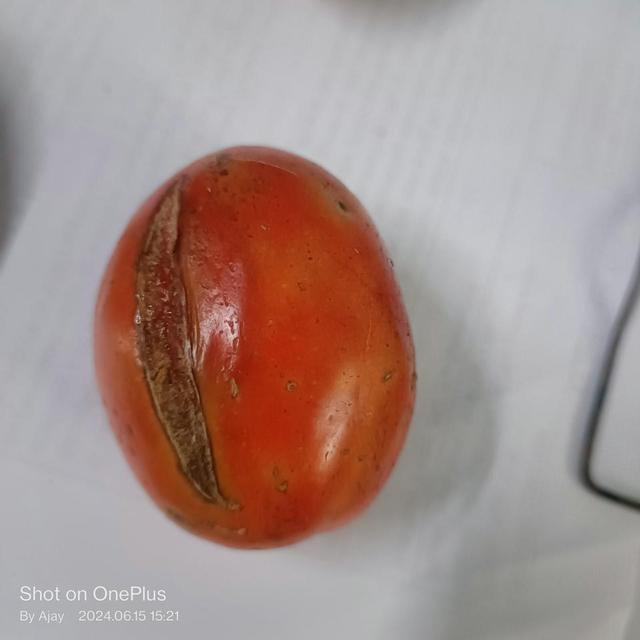Cracking Fruit: (40, 73, 130, 303)
